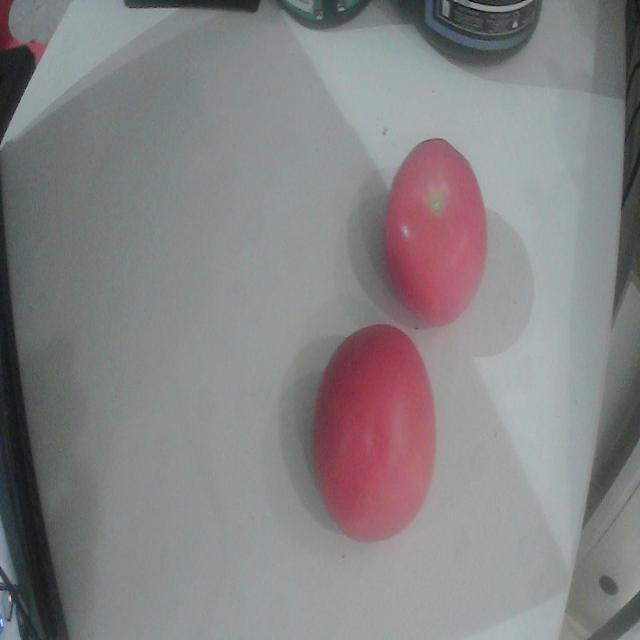Tomato: (313, 325, 435, 540), (384, 140, 486, 325)
